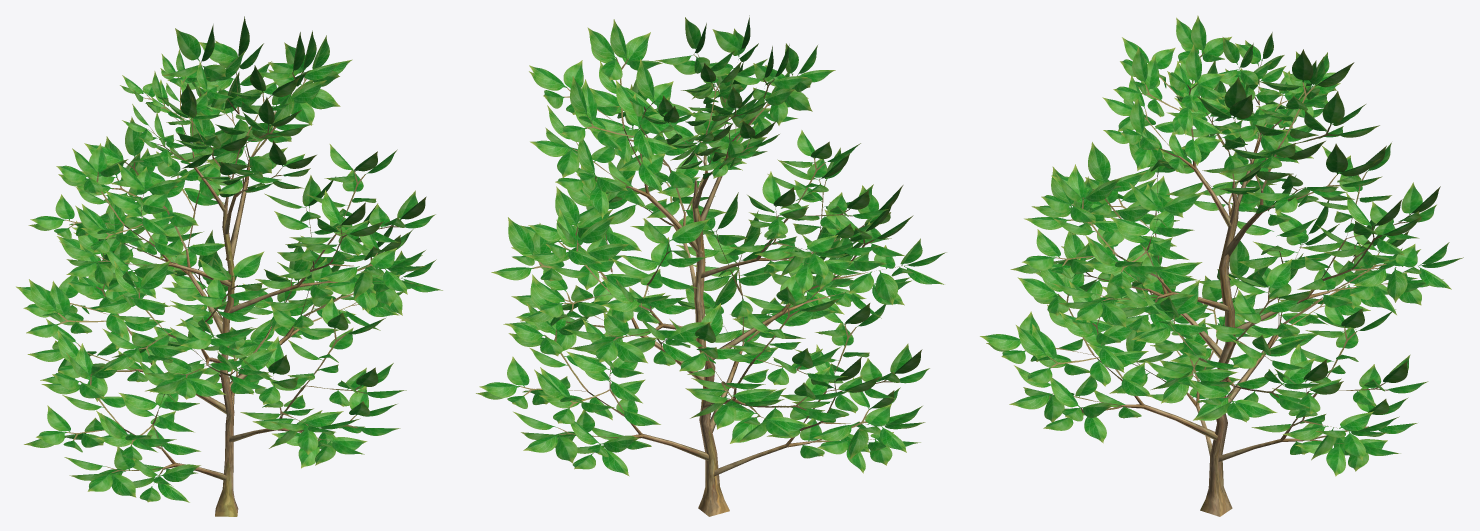
File: MS_ShrubA01.fbx
3 views of the same model, side by side, from view 1: azimuth 30°, elevation 25°; view 2: azimuth 150°, elevation 25°; view 3: azimuth 270°, elevation 25° (orthographic). The views are drawn at different scales.
Visible parts, largest first — view 1: MS_ShrubA01; view 2: MS_ShrubA01; view 3: MS_ShrubA01.
Boxes of the visible parts, box(x1,y1,x2,y2) form: MS_ShrubA01: box(16, 16, 442, 516); MS_ShrubA01: box(476, 15, 946, 516); MS_ShrubA01: box(980, 15, 1463, 516).
Size of the model in its own units: 190 by 208 by 192.
